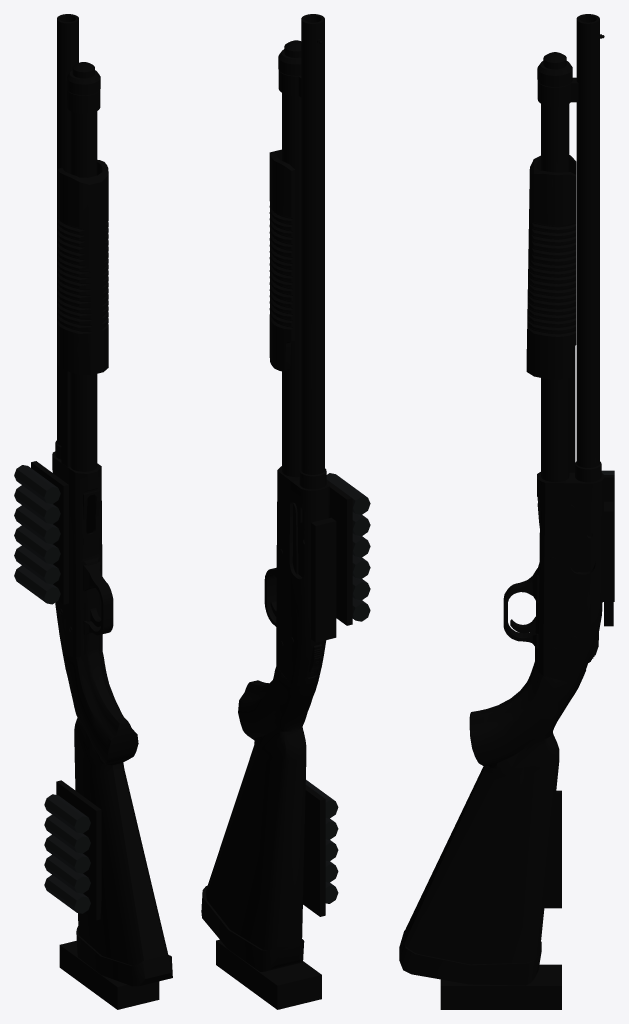
Rendered from M590__Mount_ScopeBase__RecoilPad_Rubber__ShellHolder_Butt__Sidesaddle_Shotgun.fbx.
The picture shows the model from 3 angles, left to right: view 1: azimuth 30°, elevation 25°; view 2: azimuth 210°, elevation 25°; view 3: azimuth 270°, elevation 25°; orthographic projection. The views are drawn at different scales.
Visible parts, largest first — view 1: asset_M590.001; view 2: asset_M590.001; view 3: asset_M590.001.
Boxes of the visible parts, x1,y1,x2,y2 form: asset_M590.001: (14, 14, 172, 1009); asset_M590.001: (201, 14, 370, 1009); asset_M590.001: (399, 14, 614, 1009).
Size of the model in its own units: 0.0447 by 0.615 by 0.1224.
